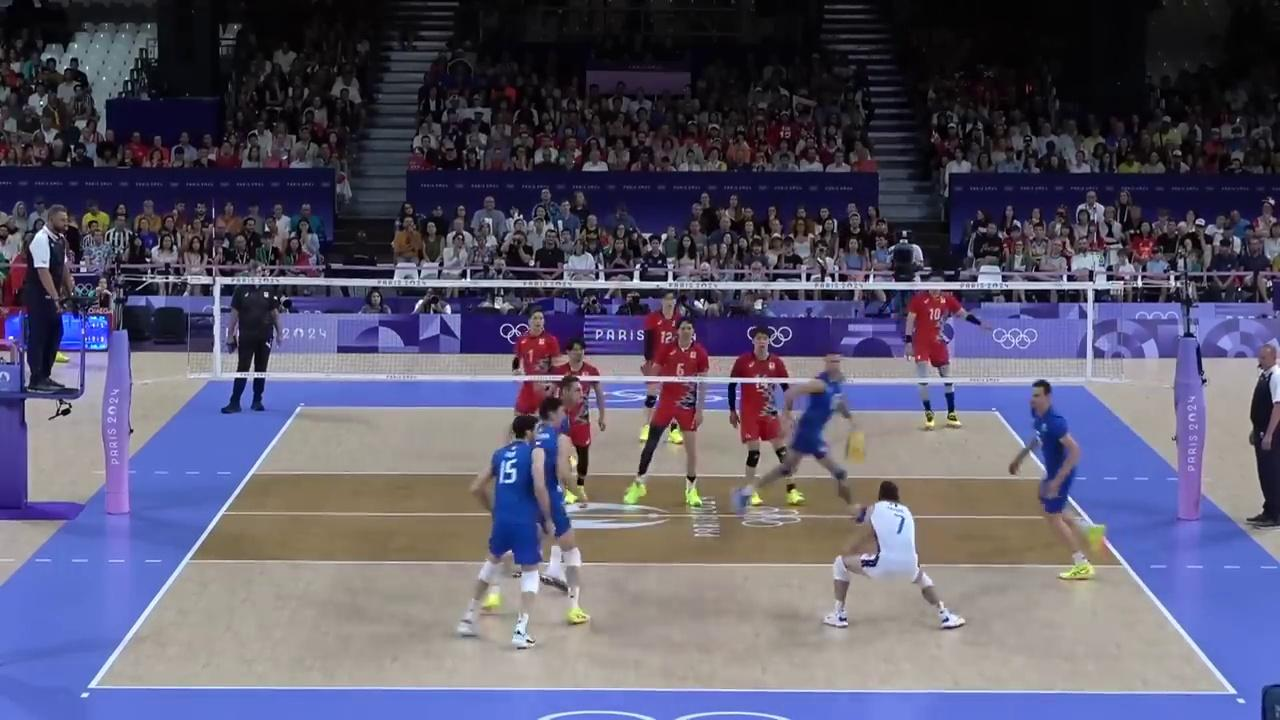ball: (846, 427, 866, 460)
